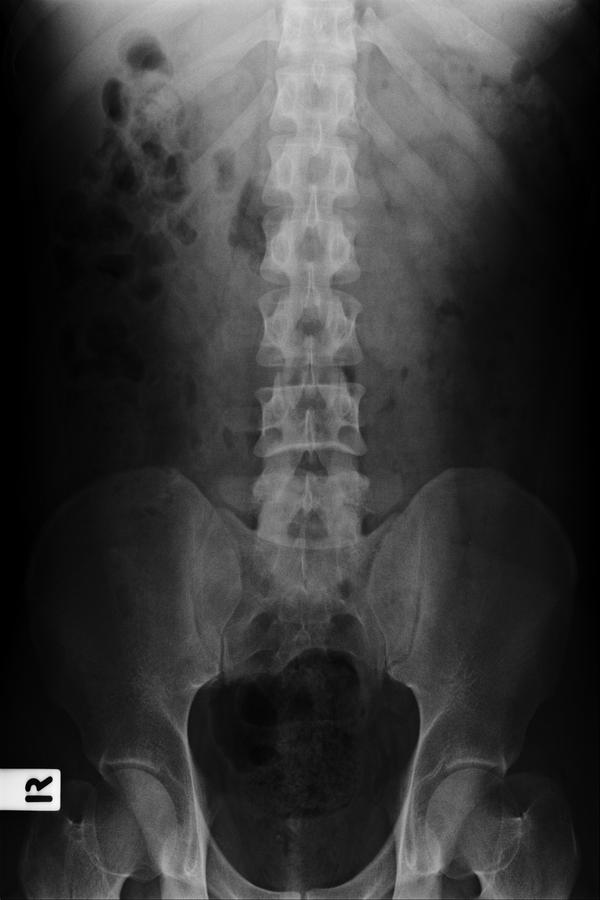lumbar scoliosis: (251, 9, 372, 552)
